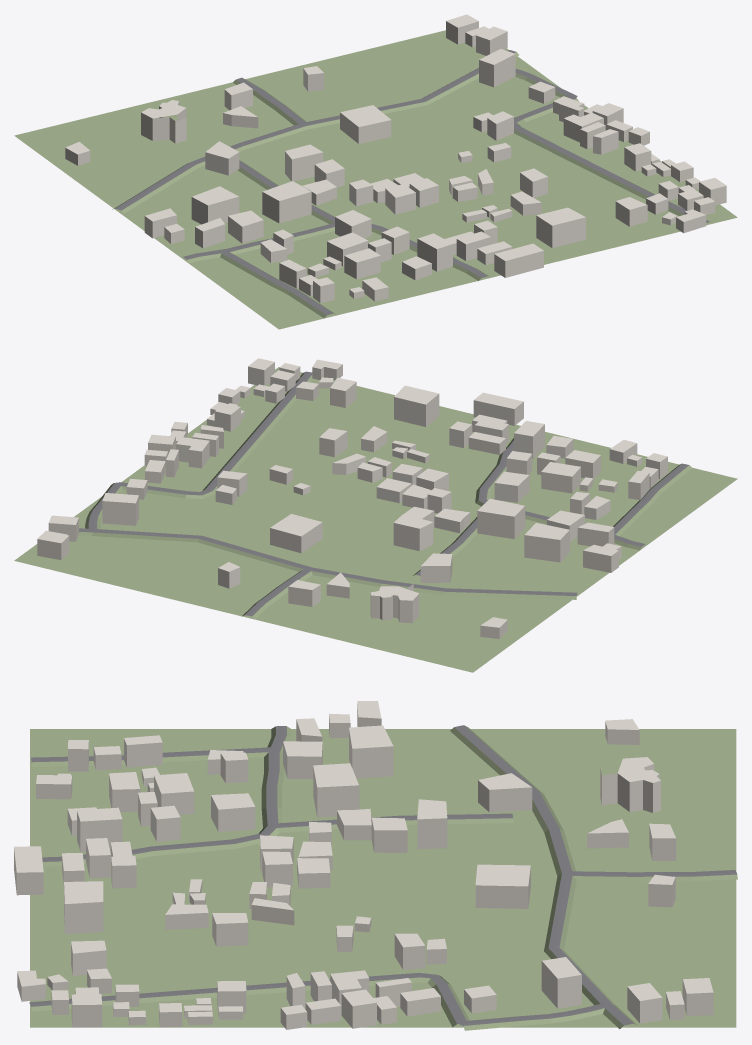
Rendered from dhamrai_chunk_x0_z-2.glb.
3 views of the same model, one above another, from view 1: azimuth 30°, elevation 25°; view 2: azimuth 150°, elevation 25°; view 3: azimuth 270°, elevation 25° (orthographic). The views are drawn at different scales.
Parts seen in each view (by area): view 1: terrain, buildings, roads, embankments; view 2: terrain, buildings, roads, embankments; view 3: terrain, buildings, roads, embankments.
Boxes of the visible parts, x1,y1,x2,y2 form: terrain: (14, 30, 737, 329); buildings: (65, 14, 726, 303); roads: (115, 50, 709, 315); embankments: (112, 50, 684, 317); terrain: (14, 367, 737, 672); buildings: (37, 358, 667, 638); roads: (79, 371, 688, 616); embankments: (78, 372, 691, 618); terrain: (30, 729, 736, 1027); buildings: (14, 701, 713, 1029); roads: (29, 725, 737, 1026); embankments: (31, 725, 737, 1030).
Bounding box in the file's own units: 263 × 13.23 × 262.
